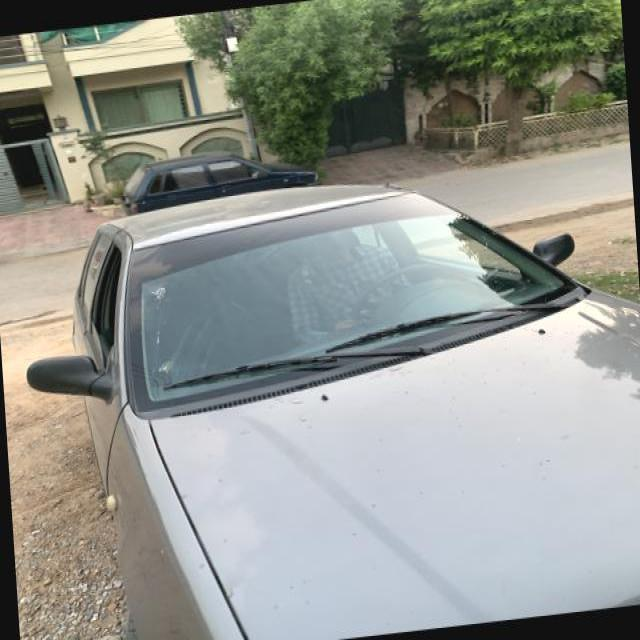no-seatbelt: (295, 266, 421, 334)
